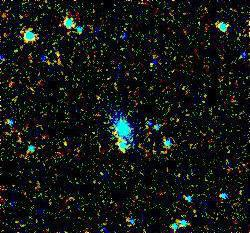star: (50, 128, 80, 158)
